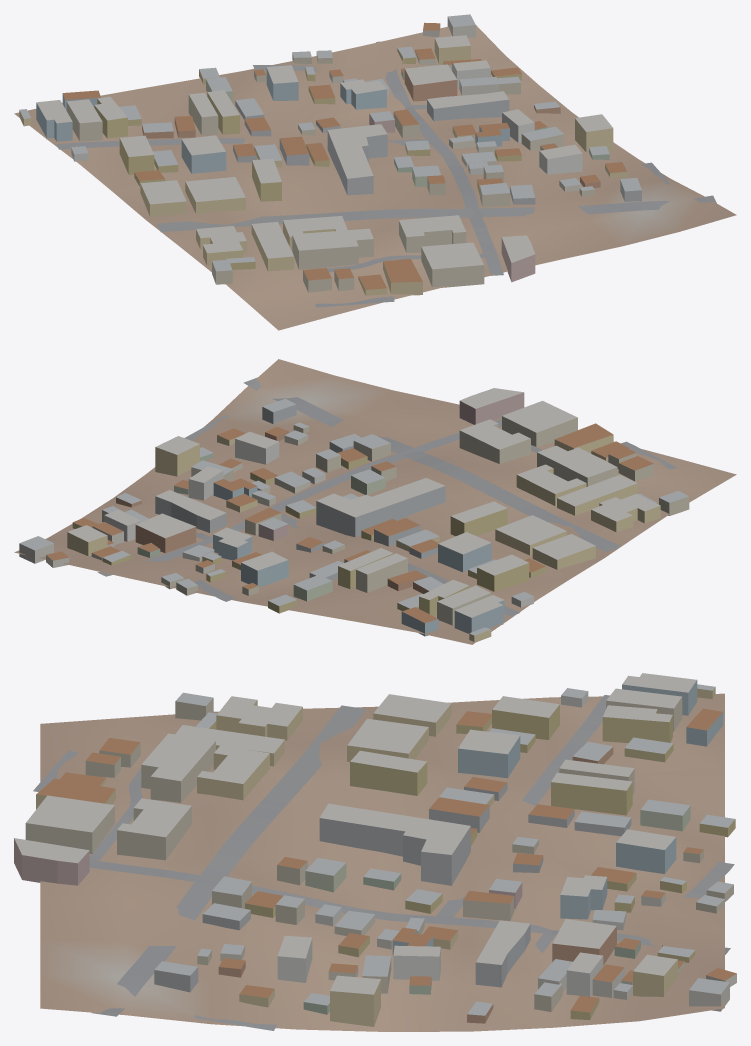
3 views of the same model, one above another, from view 1: azimuth 30°, elevation 25°; view 2: azimuth 150°, elevation 25°; view 3: azimuth 270°, elevation 25° (orthographic). The views are drawn at different scales.
Visible parts, largest first — view 1: Lo; view 2: Lo; view 3: Lo.
Boxes of the visible parts, box(x1,y1,x2,y2) form: Lo: box(14, 14, 736, 330); Lo: box(14, 359, 736, 644); Lo: box(14, 673, 736, 1031).
Size of the model in its own units: 263 by 28.84 by 270.
